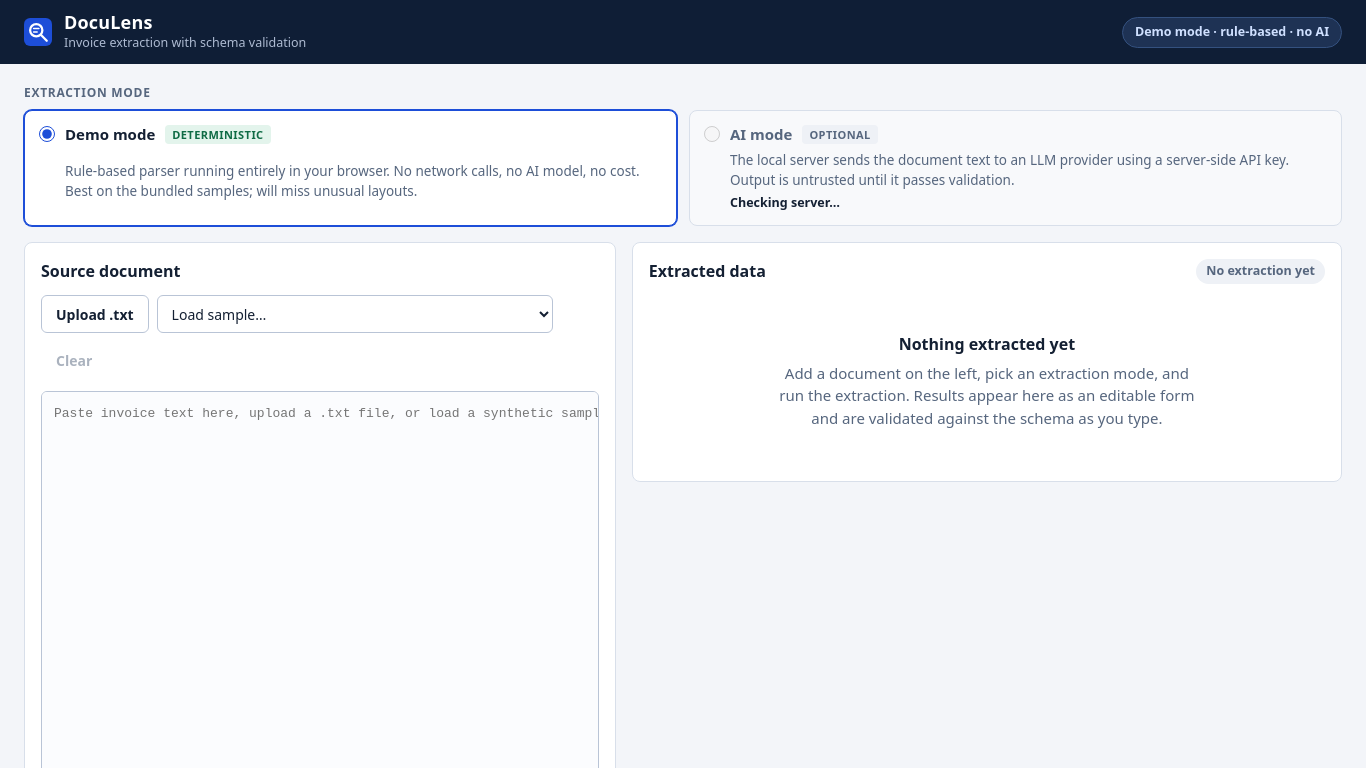
it: App — demo mode › manual correction: clearing a required field blocks export, restoring it re-enables export
This screenshot has width=1366, height=768.
Select "Clean invoice (pipe-delimited table)" in the dropdown named "load a synthetic sample" at [355, 314], box left=157, top=295, right=553, bottom=333
(page scrolled)
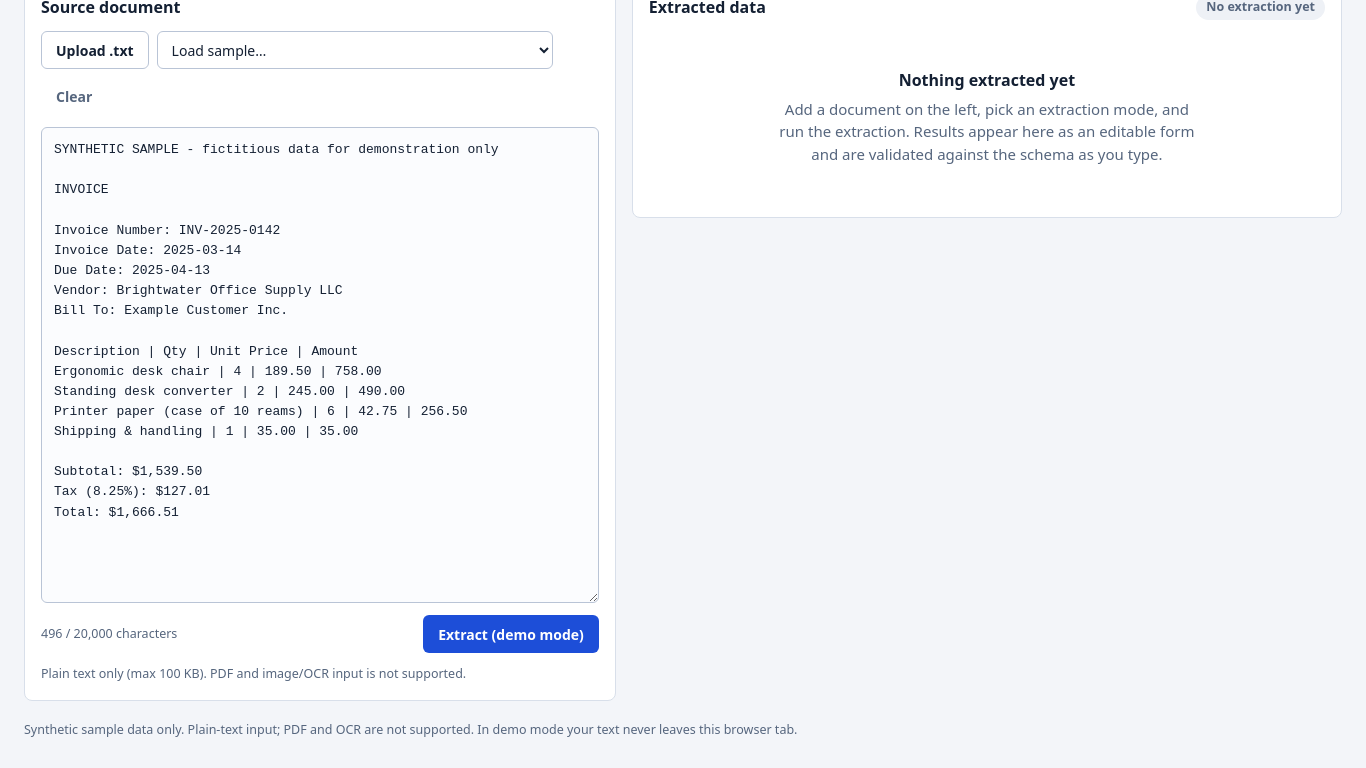
Click the button "Extract (demo mode)".
click(511, 634)  # box left=423, top=615, right=599, bottom=653
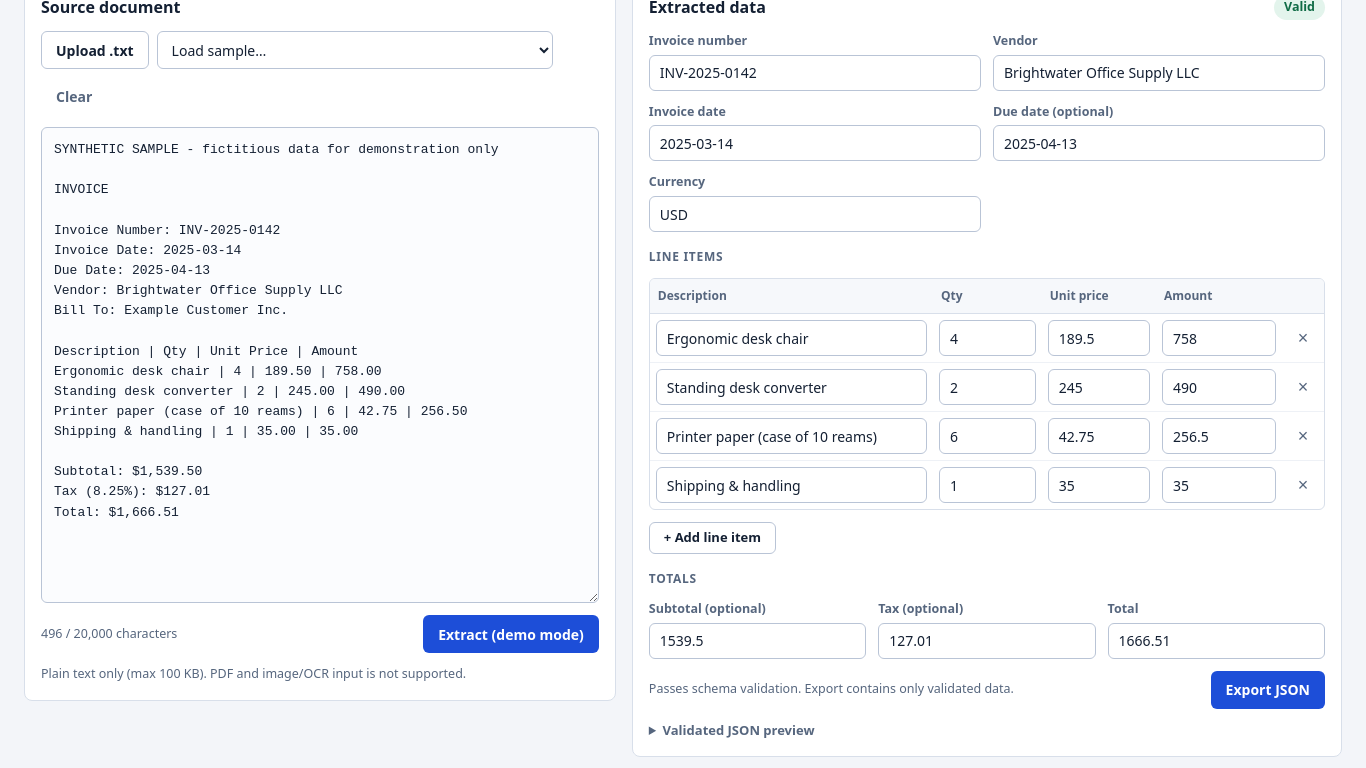
Expected: the button "Export JSON" is enabled, left=1211, top=671, right=1325, bottom=709
Clear the field labelled "Invoice number" at [815, 73], box left=649, top=55, right=981, bottom=91
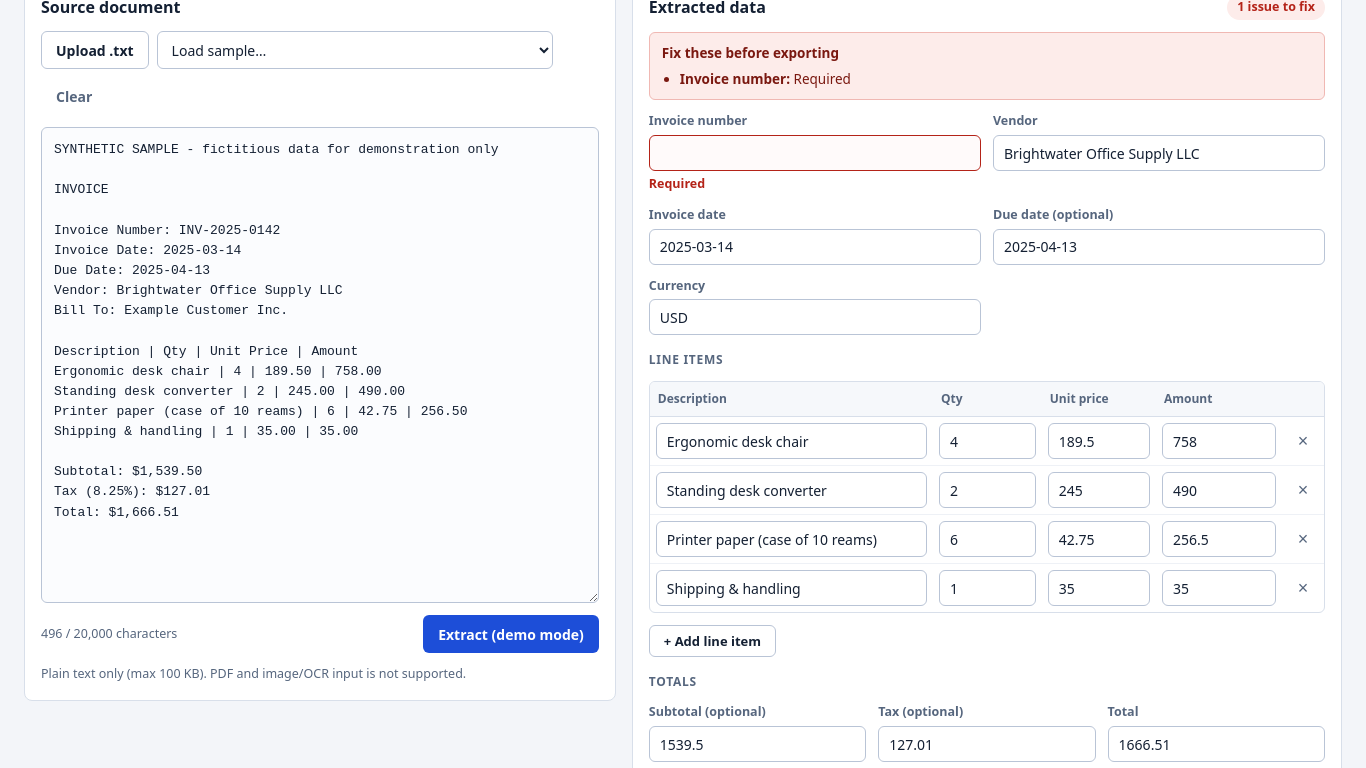
Expected: the list item "Invoice number: Required" is shown, left=680, top=70, right=851, bottom=88
Type "INV-FIXED" into the field labelled "Invoice number".
click(815, 153); type("INV-FIXED")  # box left=649, top=135, right=981, bottom=171
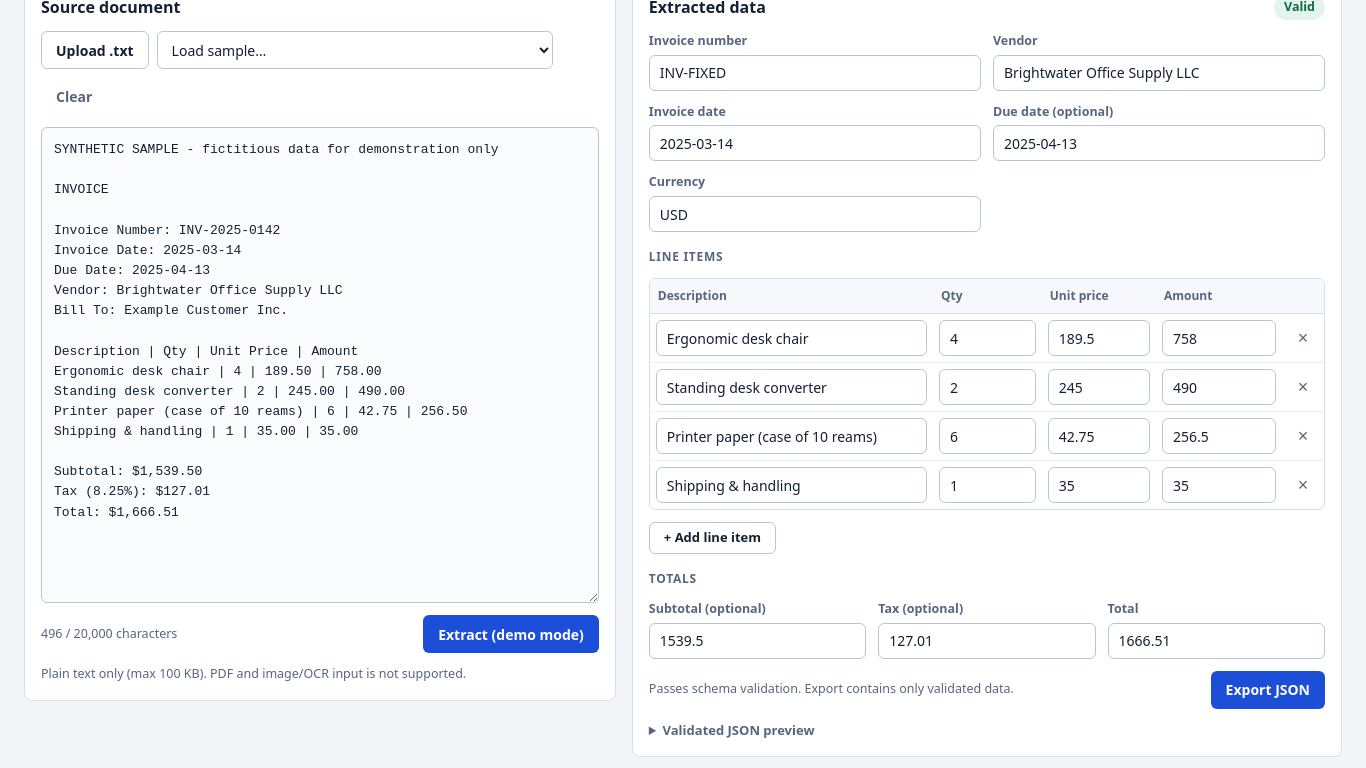
Expected: the button "Export JSON" is enabled, left=1211, top=671, right=1325, bottom=709
